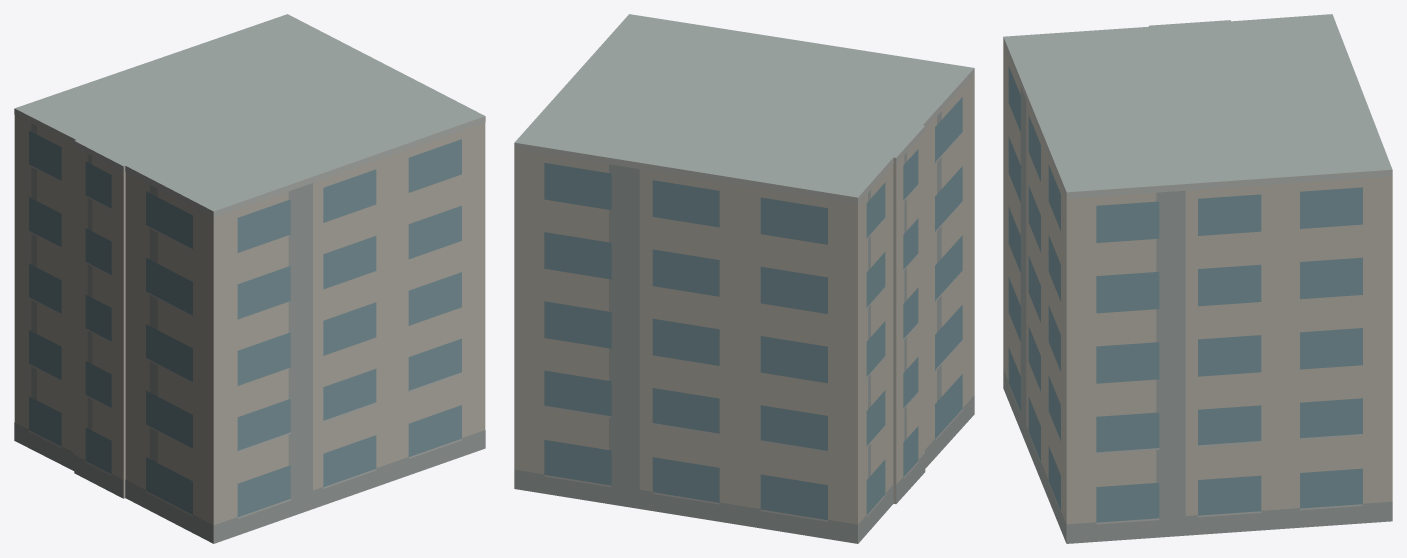
Rendered from survey-upis-32882731.glb.
The picture shows the model from 3 angles, left to right: view 1: azimuth 30°, elevation 25°; view 2: azimuth 150°, elevation 25°; view 3: azimuth 270°, elevation 25°; orthographic projection. The views are drawn at different scales.
Parts seen in each view (by area): view 1: survey-upis-32882731.tmp; view 2: survey-upis-32882731.tmp; view 3: survey-upis-32882731.tmp.
Part boxes in pixels (x1=…): survey-upis-32882731.tmp: x1=14, y1=14, x2=485, y2=543; survey-upis-32882731.tmp: x1=514, y1=14, x2=974, y2=543; survey-upis-32882731.tmp: x1=1003, y1=14, x2=1392, y2=543.
Bounding box in the file's own units: 14.26 × 13.1 × 13.15.
